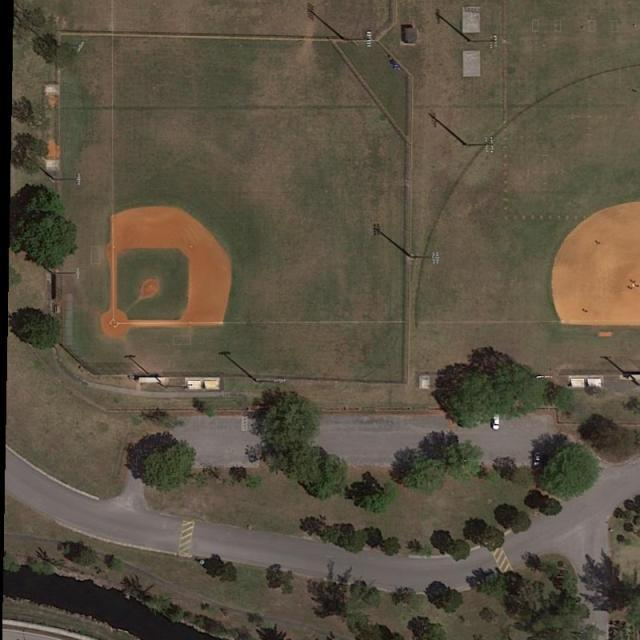vehicle: (493, 413, 502, 430), (534, 450, 542, 467)
